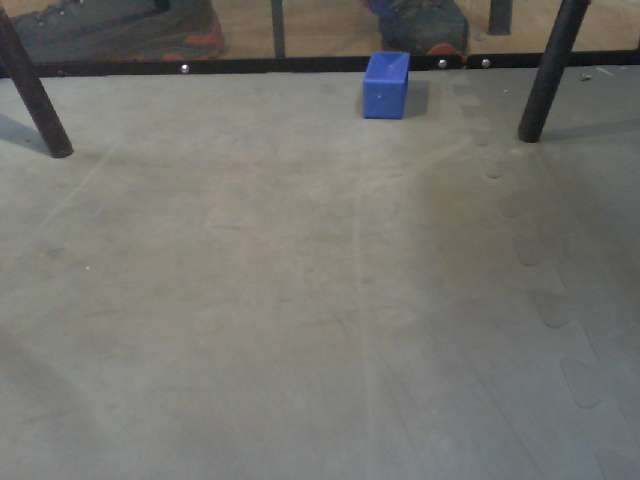BlueSample: (359, 48, 411, 121)
